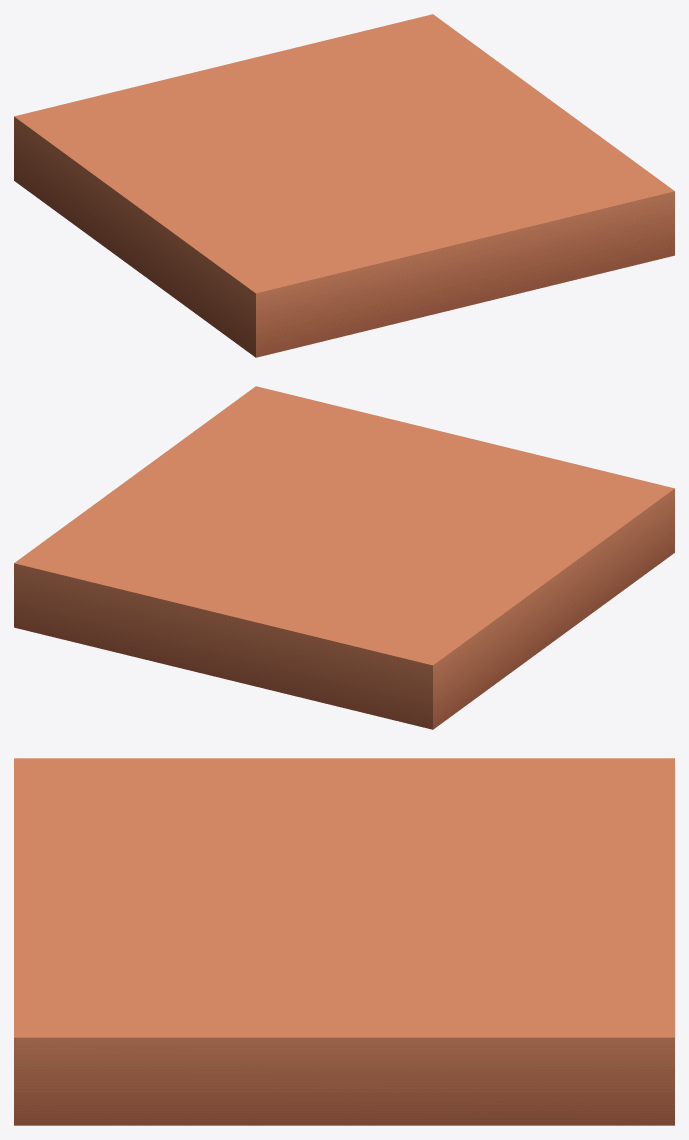
The model's file is block.glb.
3 views of the same model, one above another, from view 1: azimuth 30°, elevation 25°; view 2: azimuth 150°, elevation 25°; view 3: azimuth 270°, elevation 25° (orthographic). The views are drawn at different scales.
Visible parts, largest first — view 1: block; view 2: block; view 3: block.
Boxes of the visible parts, bbox=[...] form: block: bbox=[14, 14, 674, 357]; block: bbox=[14, 386, 674, 729]; block: bbox=[14, 758, 674, 1125].
Bounding box in the file's own units: 0.9999 × 0.1467 × 0.9999.
Materials: 1 (1 with a texture image).
